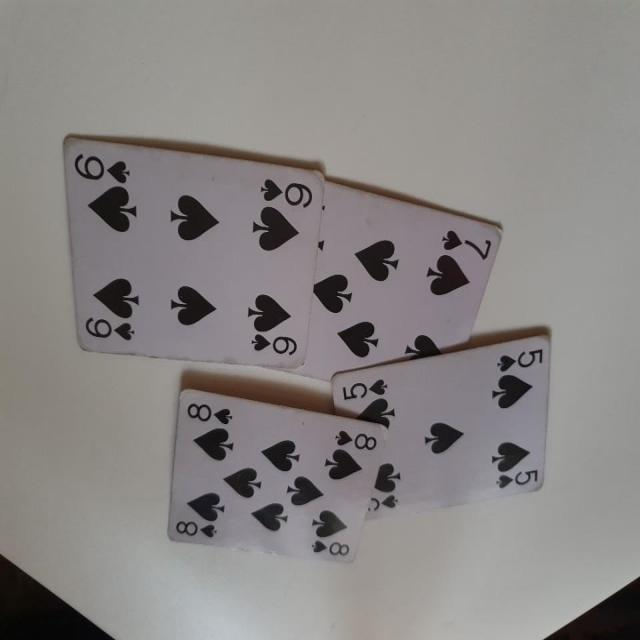5 Spades: (328, 326, 563, 535)
6 Spades: (55, 137, 324, 363)
7 Spades: (228, 204, 510, 388)
8 Spades: (154, 380, 389, 596)
